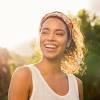Persons: (35, 10, 79, 72)
